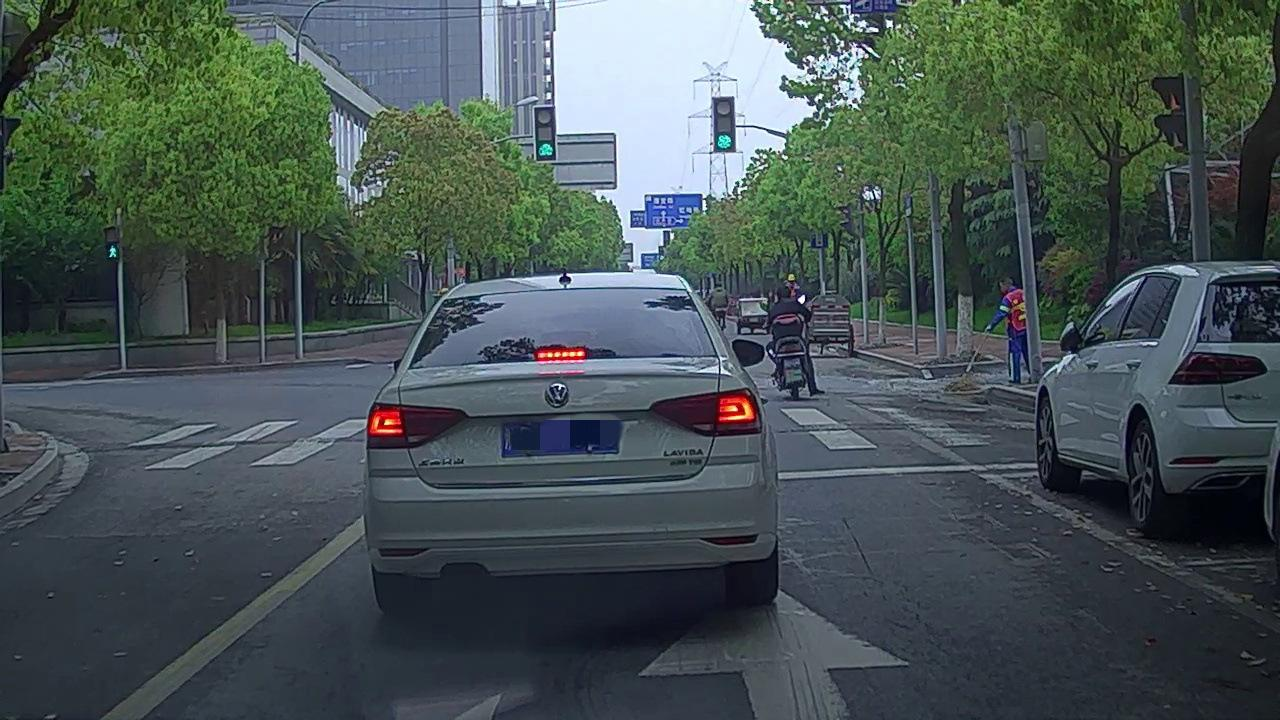traffic_light: (713, 98, 736, 152), (533, 103, 555, 159)
